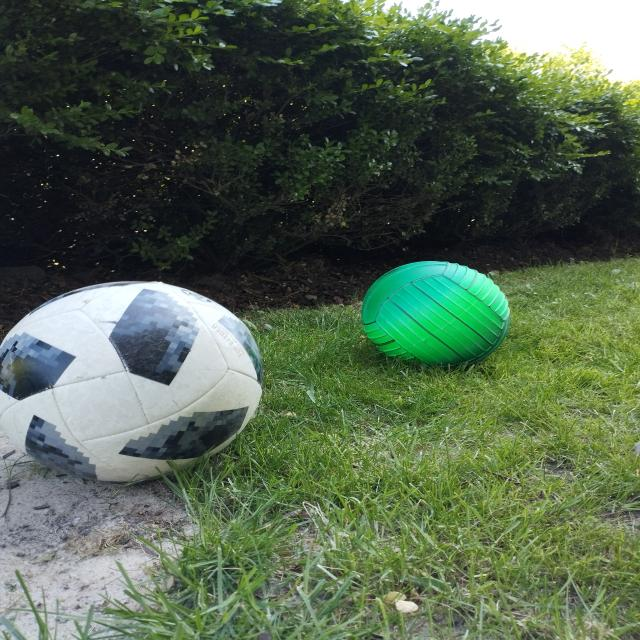nozna: (0, 279, 267, 487)
zielona: (361, 261, 510, 368)
